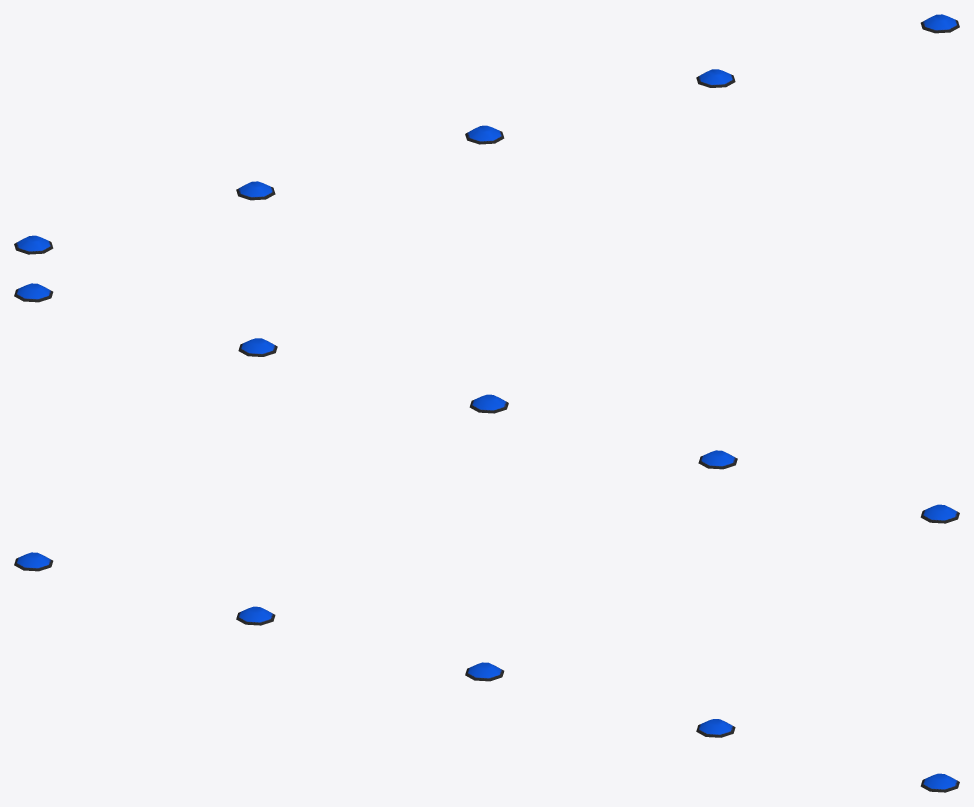
File: defaultconelb.glb
3 renders of one model, top to bottom at view 1: azimuth 30°, elevation 25°; view 2: azimuth 150°, elevation 25°; view 3: azimuth 330°, elevation 25°, orthographic.
Visible parts, largest first — view 1: DefaultConeLB; view 2: DefaultConeLB; view 3: DefaultConeLB.
Boxes of the visible parts, bbox=[...] form: DefaultConeLB: bbox=[14, 14, 959, 254]; DefaultConeLB: bbox=[14, 283, 959, 523]; DefaultConeLB: bbox=[14, 552, 959, 792].
Size of the model in its own units: 8.31 by 0.0614 by 0.312.
Materials: 1 (1 with a texture image).
